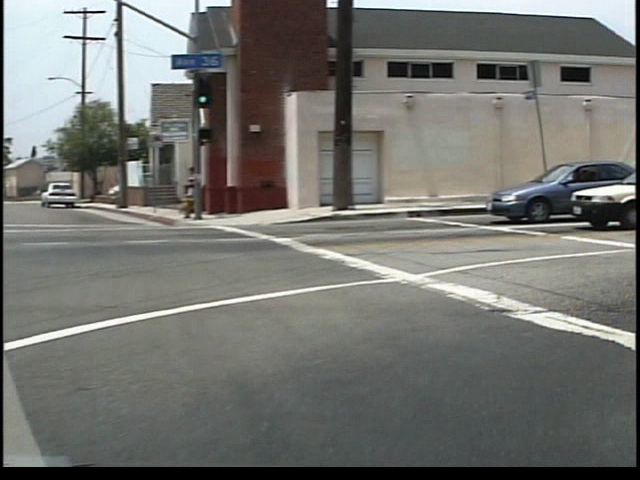person: (191, 165, 214, 216)
